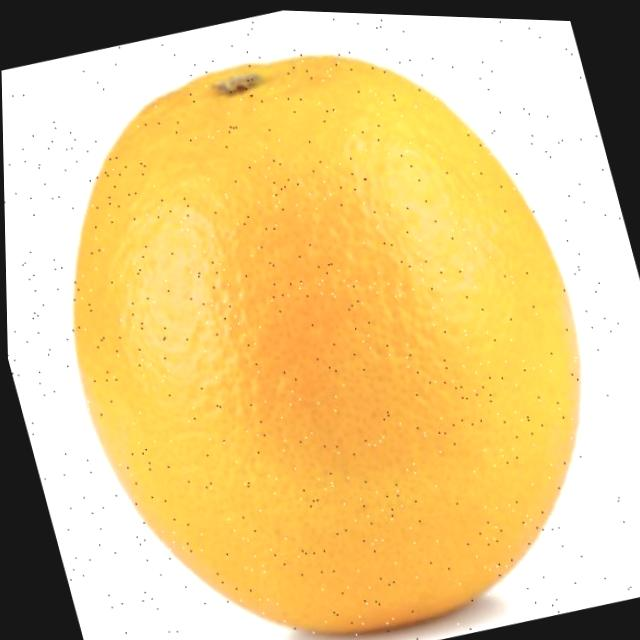Orange: (4, 0, 640, 640)
